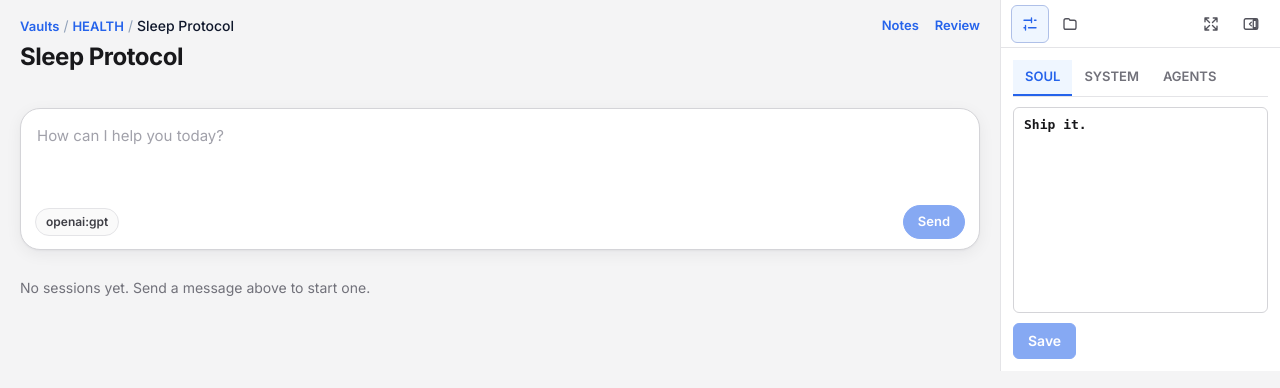
Scenario: ProjectHubPage › expands, collapses, and restores the project rail canvas
Expected: the text box named "message" is shown, [35,121,965,196]
What coordinates should you click on to do the following:
click the button named "Expand workspace"
I would click on:
 (1211, 24)
Its box is [1192,4,1230,42].
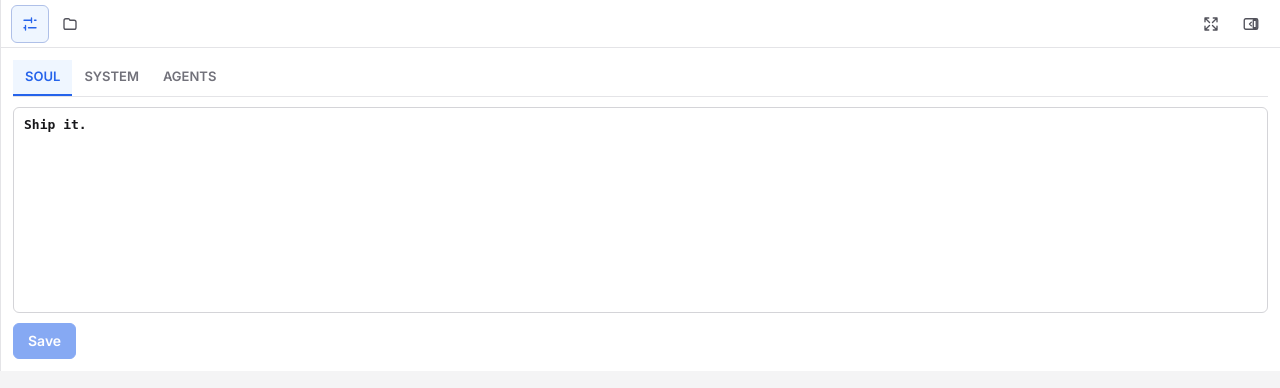
Expected: the element showing "SOUL SYSTEM AGENTS Save" has attribute data-rail="expanded"
What coordinates should you click on to do the following:
click the button named "Collapse canvas"
I would click on:
 (1251, 24)
Its box is [1232,4,1270,42].
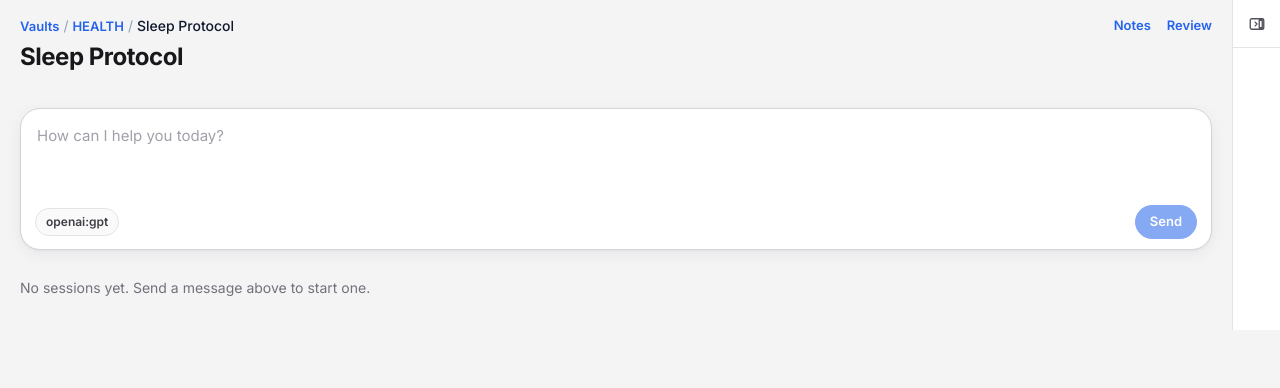
Expected: the button named "Show canvas" is shown
Expected: the tab "Config" is gone
Expected: the tab "Files" is gone
What coordinates should you click on to do the following:
click the button named "Show canvas"
I would click on:
 (1256, 24)
Its box is [1238,4,1276,42].
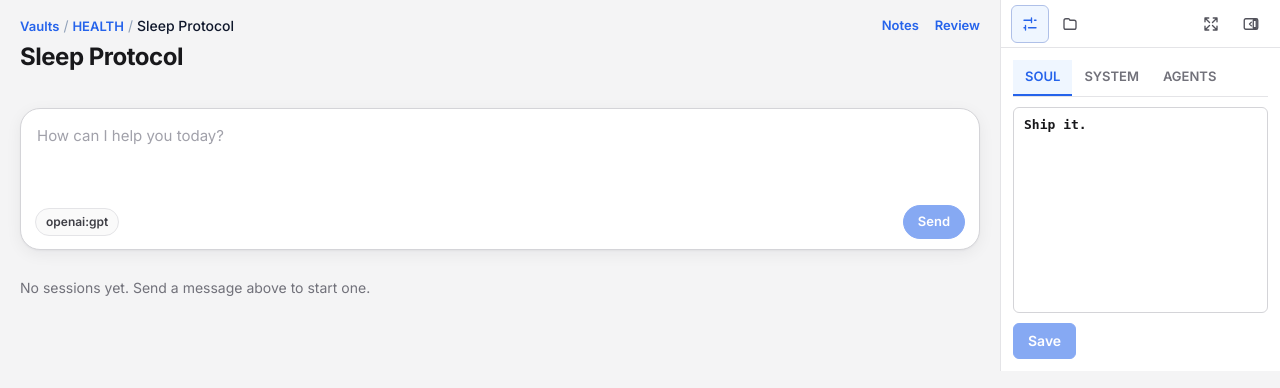
Expected: the tab named "Config" is shown, [1011,4,1049,42]
